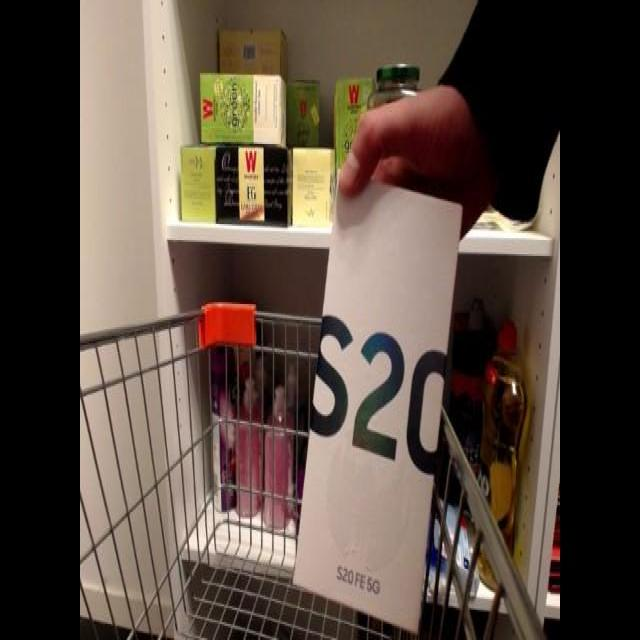Samsung S20: (289, 161, 473, 635)
